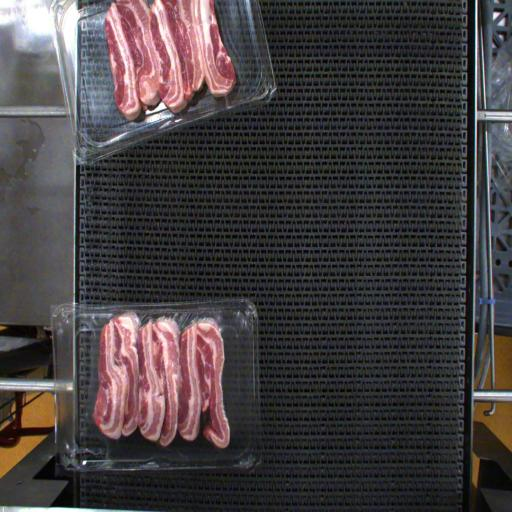unsealed: (49, 306, 257, 349)
